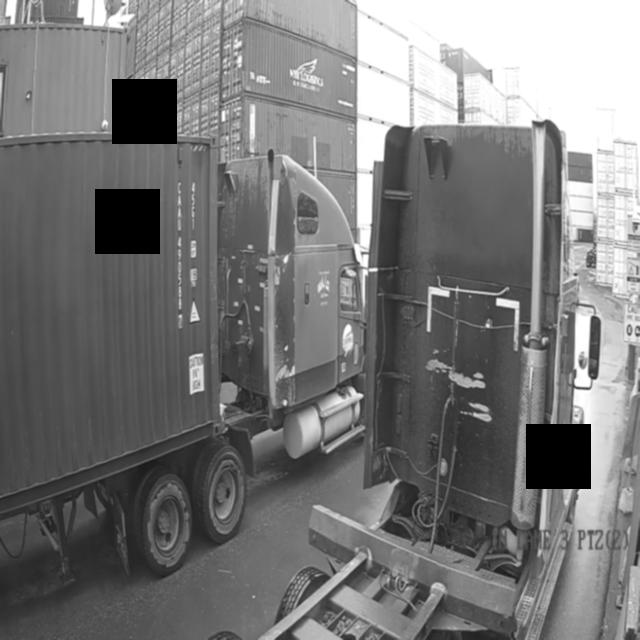container_side_no: (173, 171, 186, 335)
truck_cabin: (258, 120, 588, 640)
truck_company: (342, 324, 353, 355)
truck_with_container: (0, 132, 366, 581)
